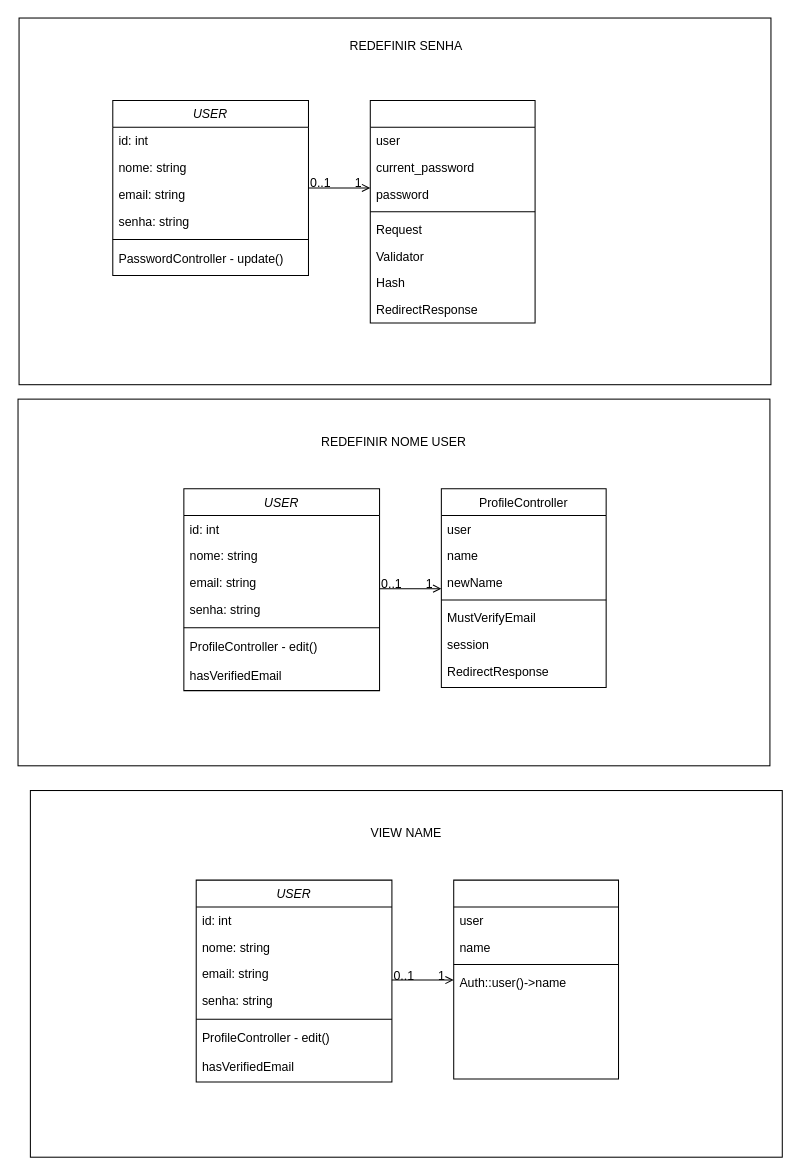
Image size: 800x1175. Some labels were removed from this diagram. The box of each missing label's shape, as (x1, y1, x2, y2) in pixels:
PasswordController: (369, 99, 535, 323)
render_user: (453, 879, 619, 1079)
